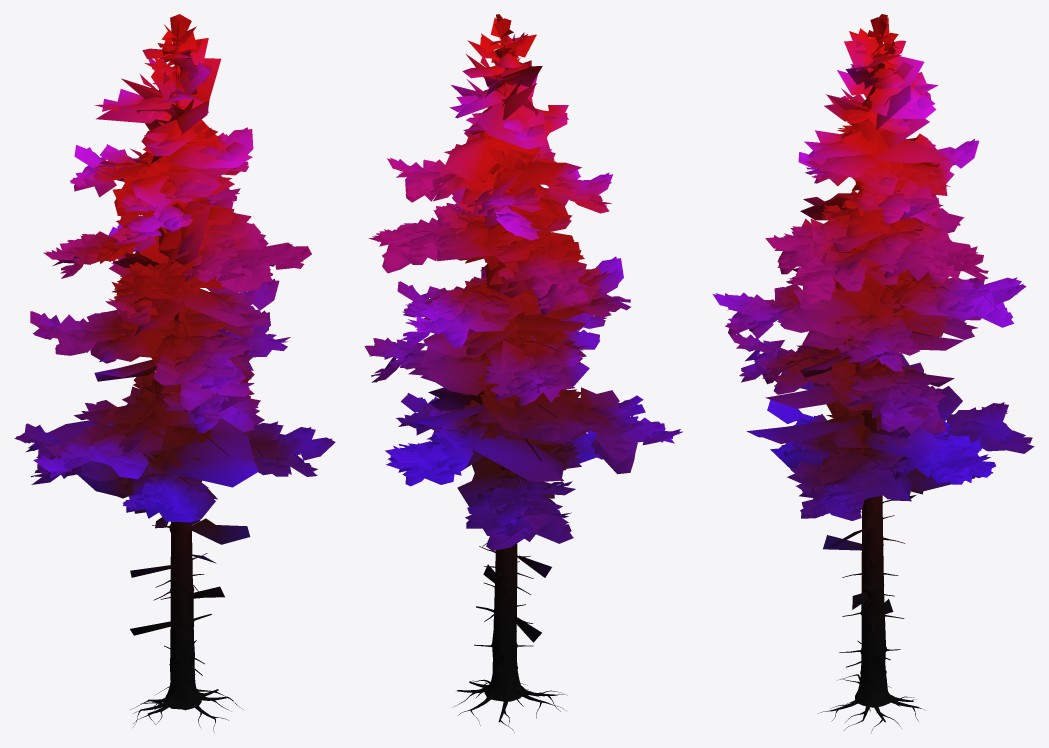
Rendered from Fir_04_Standalone_advanced_cheap.FBX.
3 renders of one model, left to right at view 1: azimuth 30°, elevation 25°; view 2: azimuth 150°, elevation 25°; view 3: azimuth 270°, elevation 25°, orthographic.
Parts seen in each view (by area): view 1: Fir_04_leaves_LOD0, Fir_04_bark_LOD0; view 2: Fir_04_leaves_LOD0, Fir_04_bark_LOD0; view 3: Fir_04_leaves_LOD0, Fir_04_bark_LOD0.
Boxes of the visible parts, x1=… form: Fir_04_leaves_LOD0: x1=14, y1=14, x2=335, y2=635; Fir_04_bark_LOD0: x1=50, y1=51, x2=249, y2=732; Fir_04_leaves_LOD0: x1=364, y1=14, x2=682, y2=642; Fir_04_bark_LOD0: x1=406, y1=76, x2=643, y2=732; Fir_04_leaves_LOD0: x1=713, y1=14, x2=1034, y2=614; Fir_04_bark_LOD0: x1=759, y1=49, x2=991, y2=732.
Size of what is drawn, in the model's own units: 8777 by 20398 by 8485.
